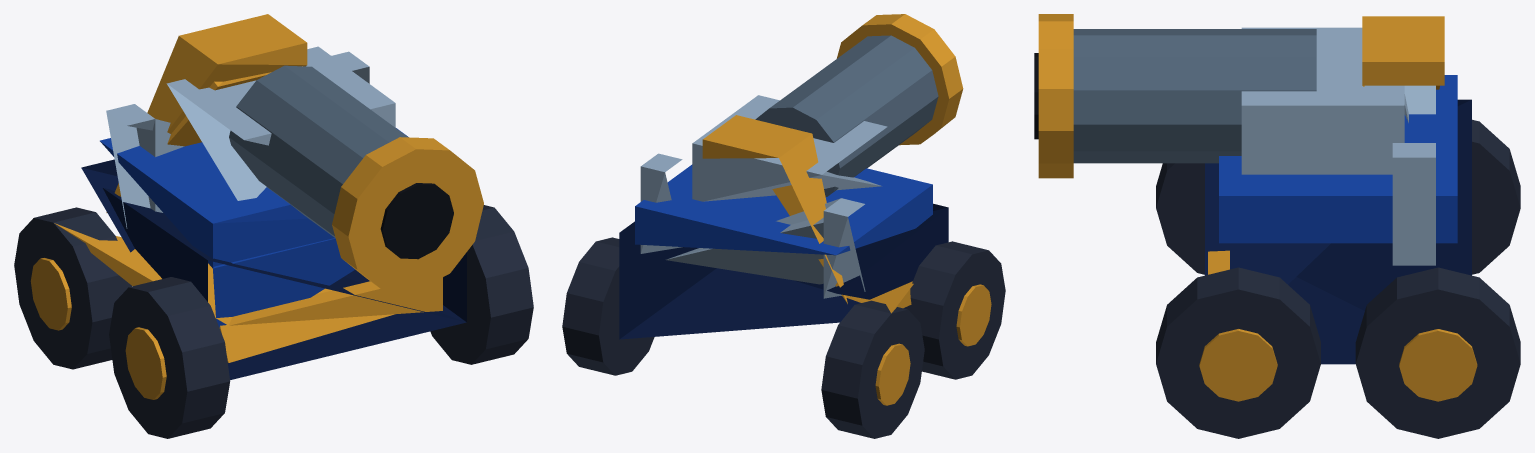
The model's file is Minion_Canon.obj.
The picture shows the model from 3 angles, left to right: view 1: azimuth 30°, elevation 25°; view 2: azimuth 150°, elevation 25°; view 3: azimuth 270°, elevation 25°; orthographic projection. The views are drawn at different scales.
Visible parts, largest first — view 1: Minion_Canon; view 2: Minion_Canon; view 3: Minion_Canon.
Boxes of the visible parts, left/top/right/bottom form: Minion_Canon: left=14, top=14, right=533, bottom=438; Minion_Canon: left=562, top=14, right=1005, bottom=438; Minion_Canon: left=1034, top=14, right=1520, bottom=438.
Bounding box in the file's own units: 1.99 × 1.67 × 2.24.
